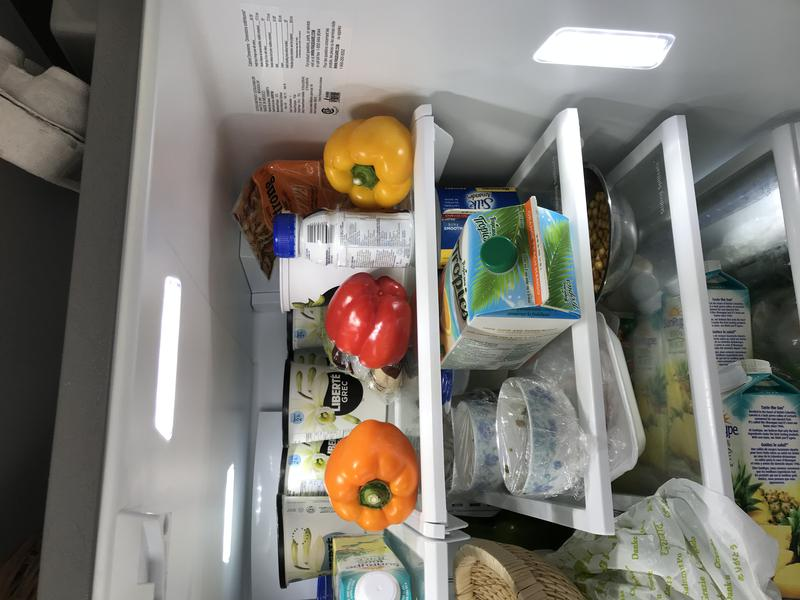orange_pepper: (320, 417, 422, 535)
red_pepper: (319, 270, 412, 373)
yellow_pepper: (320, 108, 420, 213)
